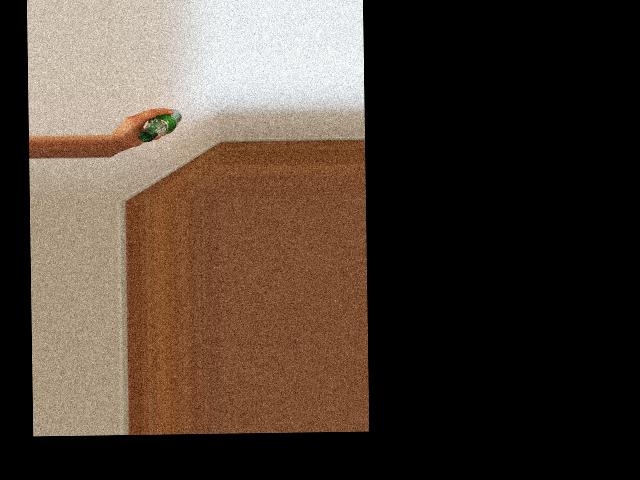beer: (137, 109, 181, 143)
